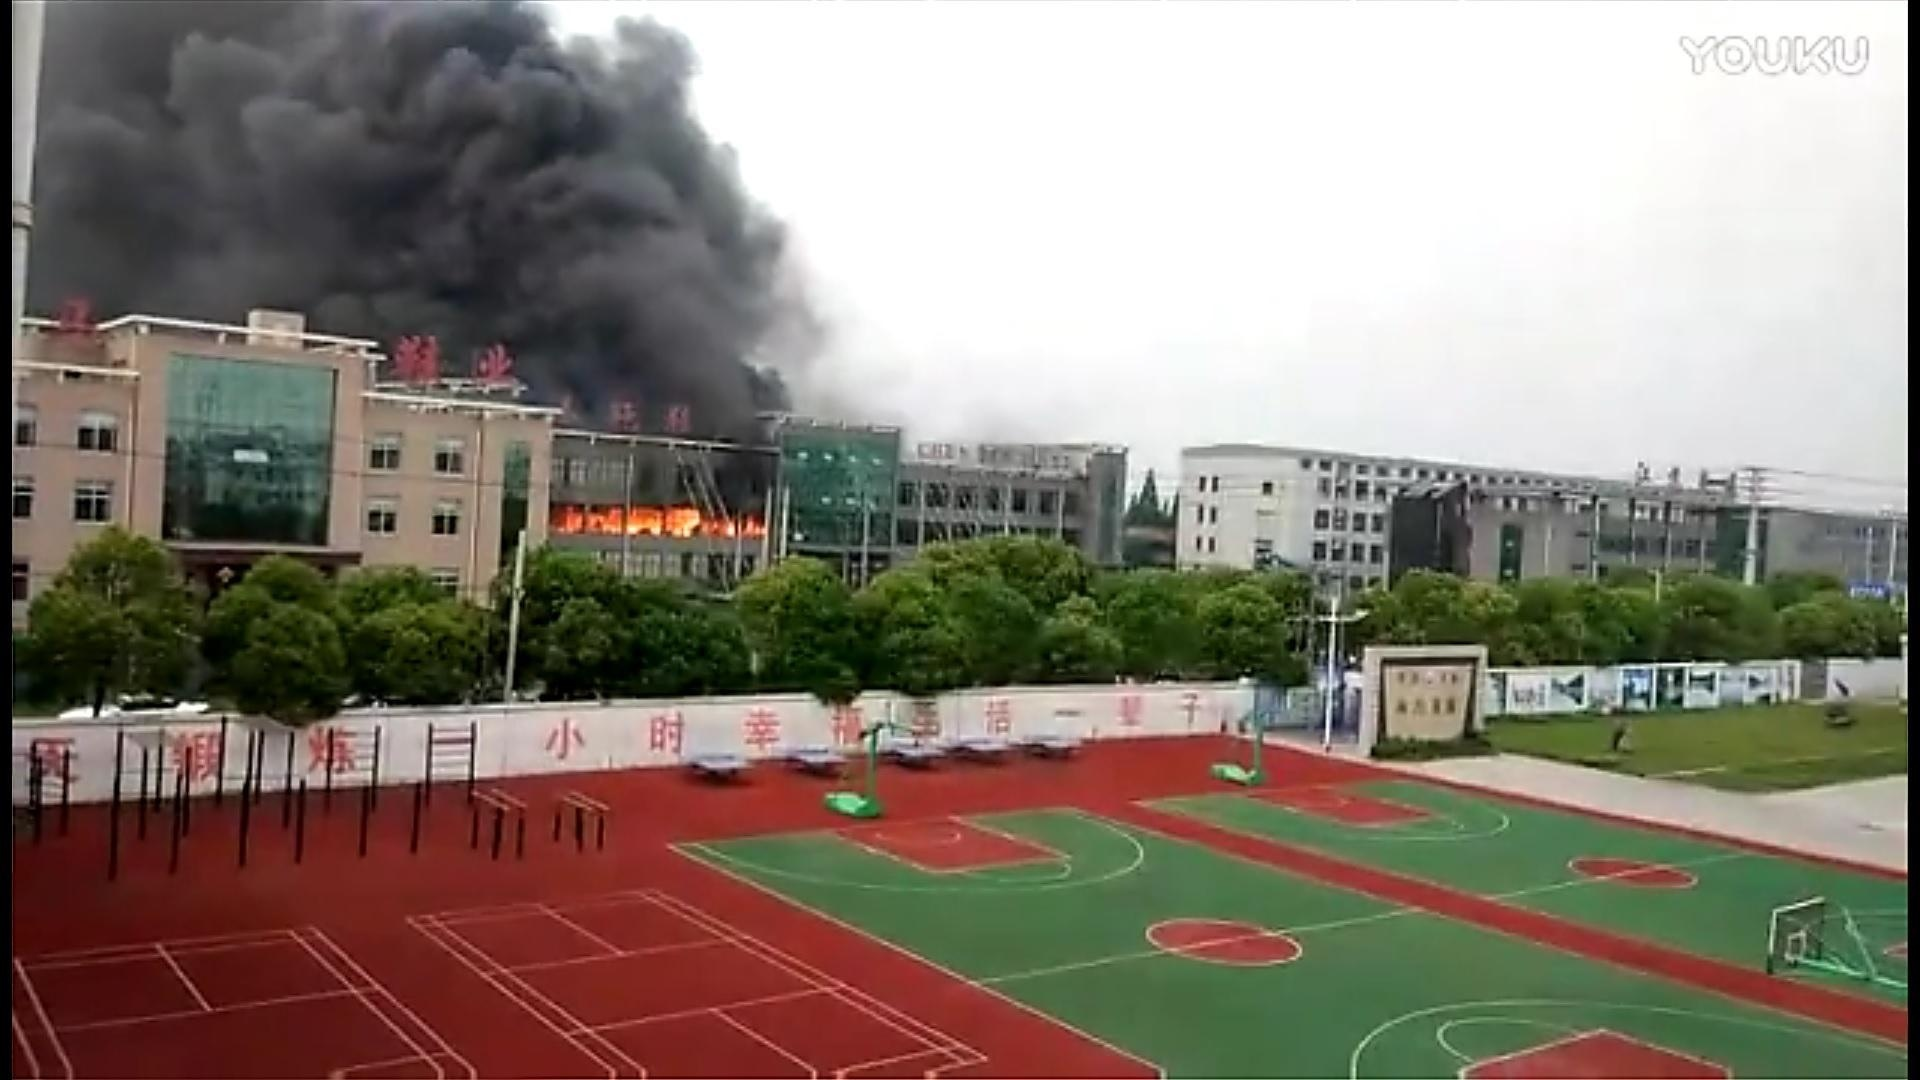fire: (558, 496, 761, 541)
